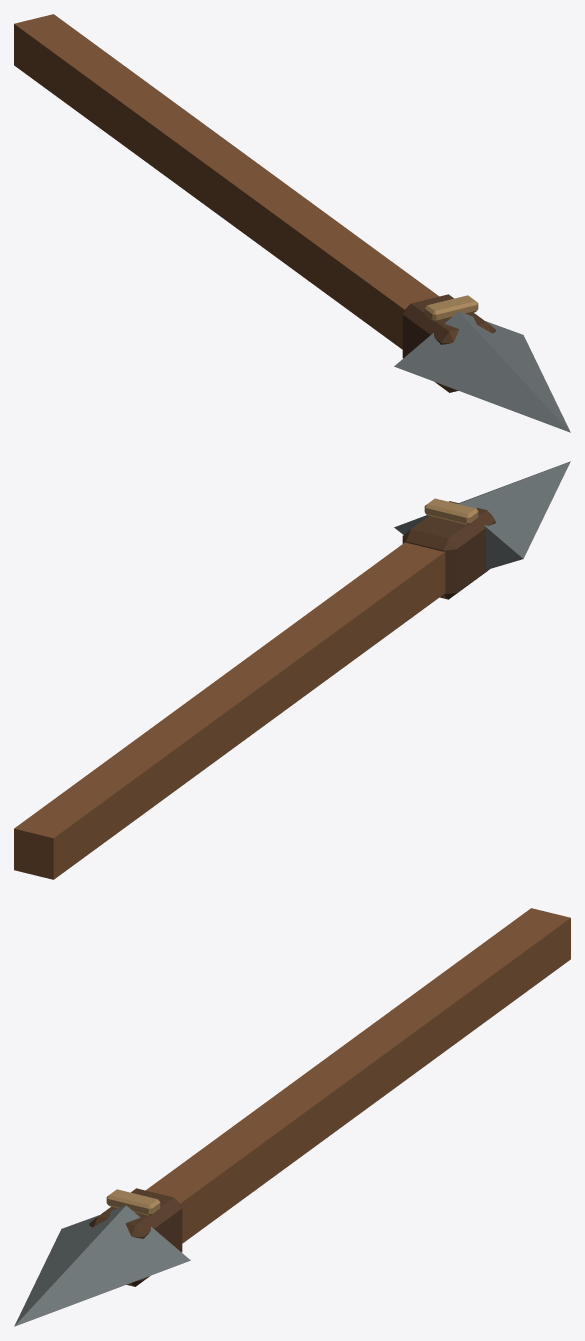
File: hunting_spear.glb
3 renders of one model, top to bottom at view 1: azimuth 30°, elevation 25°; view 2: azimuth 150°, elevation 25°; view 3: azimuth 330°, elevation 25°, orthographic.
Visible parts, largest first — view 1: hunting_spear; view 2: hunting_spear; view 3: hunting_spear.
Boxes of the visible parts, x1=… form: hunting_spear: x1=14, y1=14, x2=570, y2=432; hunting_spear: x1=14, y1=461, x2=570, y2=879; hunting_spear: x1=14, y1=908, x2=570, y2=1326.
Bounding box in the file's own units: 0.31 × 0.1765 × 2.23.
